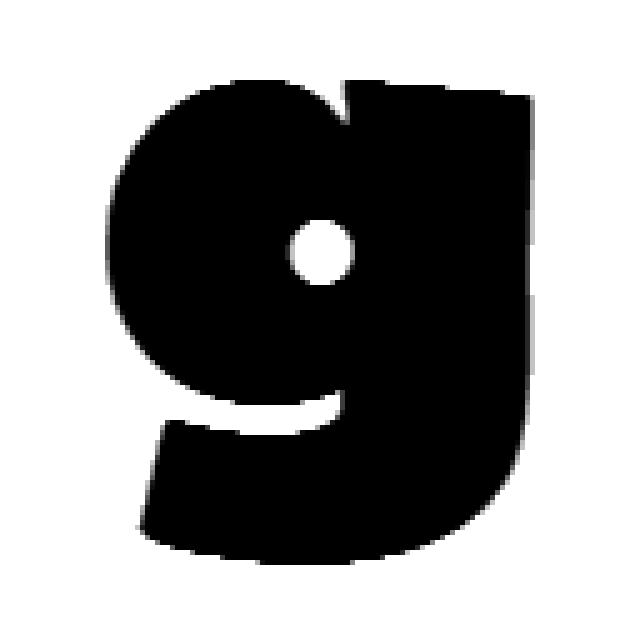G: (86, 72, 528, 558)
